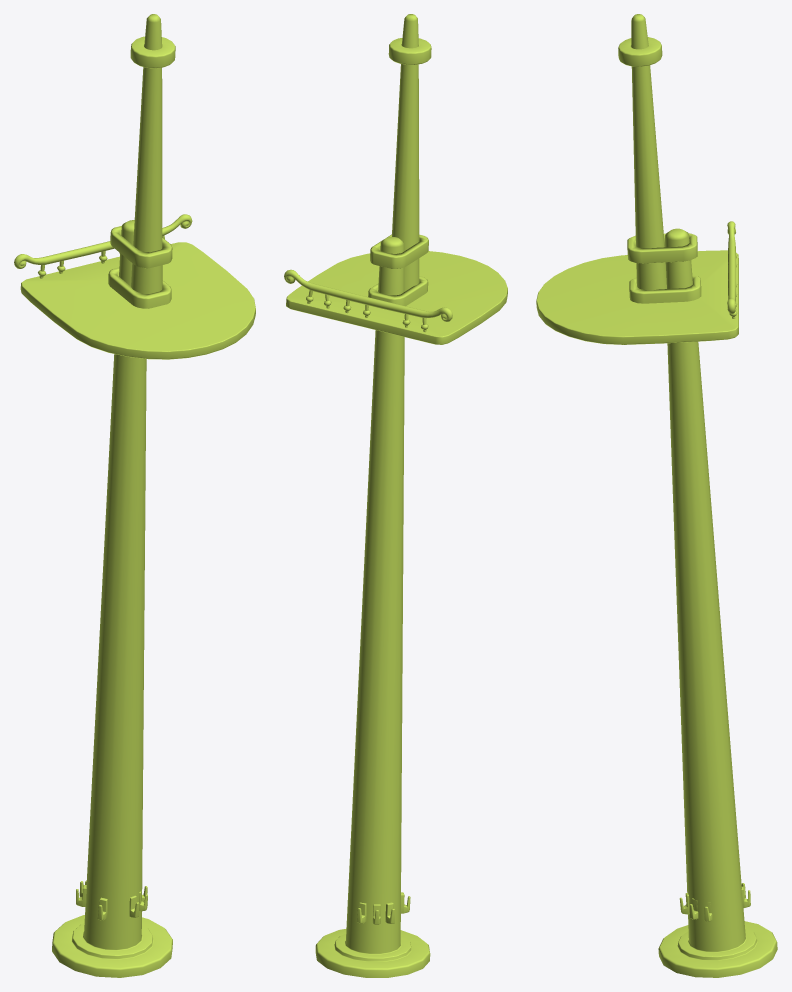
Rendered from Mode_GrandMat.fbx.
The picture shows the model from 3 angles, left to right: view 1: azimuth 30°, elevation 25°; view 2: azimuth 150°, elevation 25°; view 3: azimuth 270°, elevation 25°; orthographic projection. The views are drawn at different scales.
Visible parts, largest first — view 1: Grand_mat, grand_mat_barriere; view 2: Grand_mat, grand_mat_barriere; view 3: Grand_mat, grand_mat_barriere.
Boxes of the visible parts, x1,y1,x2,y2 form: Grand_mat: (20,14,255,977); grand_mat_barriere: (14,214,192,278); Grand_mat: (286,14,507,977); grand_mat_barriere: (284,269,452,332); Grand_mat: (536,14,777,977); grand_mat_barriere: (727,221,737,318).
Bounding box in the file's own units: 770 × 3983 × 926.
